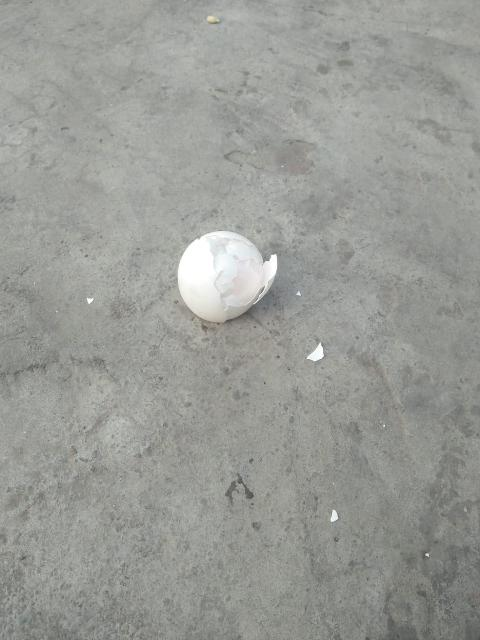Roto: (176, 229, 278, 324)
